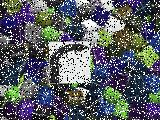Right: (49, 42, 91, 84)
